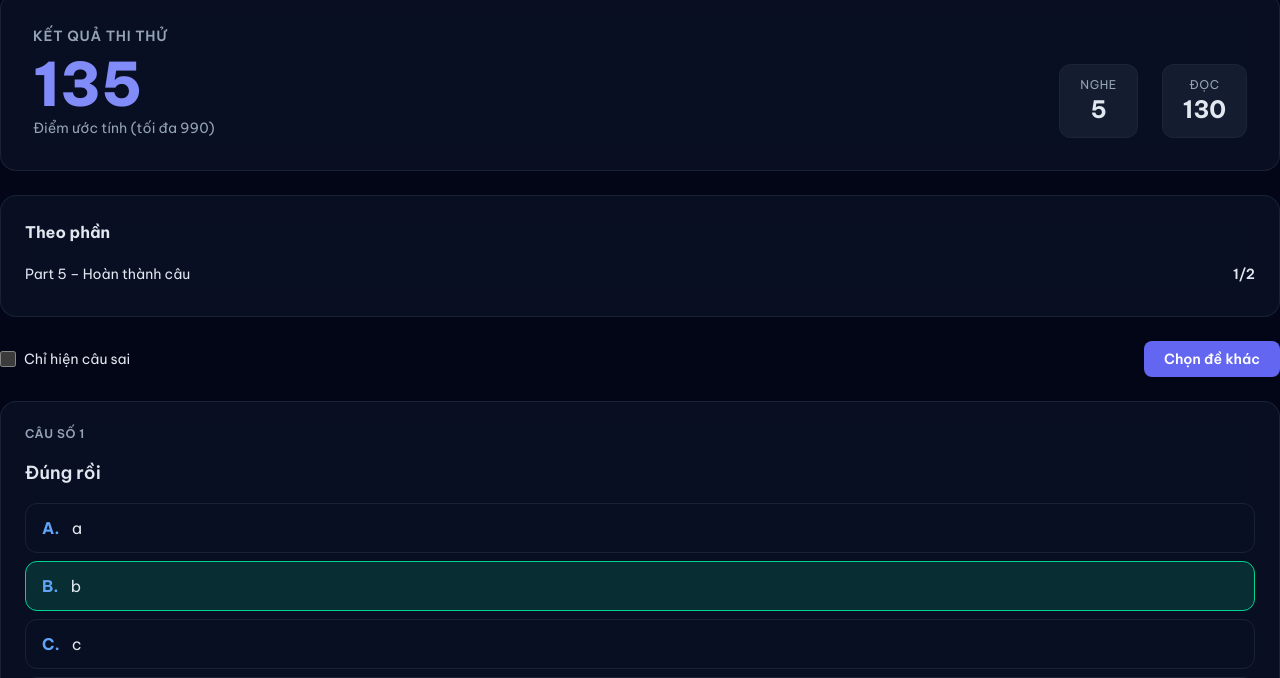
it: ResultView › lọc chỉ câu sai
Expected: the text "Đúng rồi" is shown, [25,461,101,484]
What coordinates should you click on to do the following:
click the checkbox labelled "Chỉ hiện câu sai"
I would click on:
 (8, 359)
Its box is [0,351,16,367].
(page scrolled)
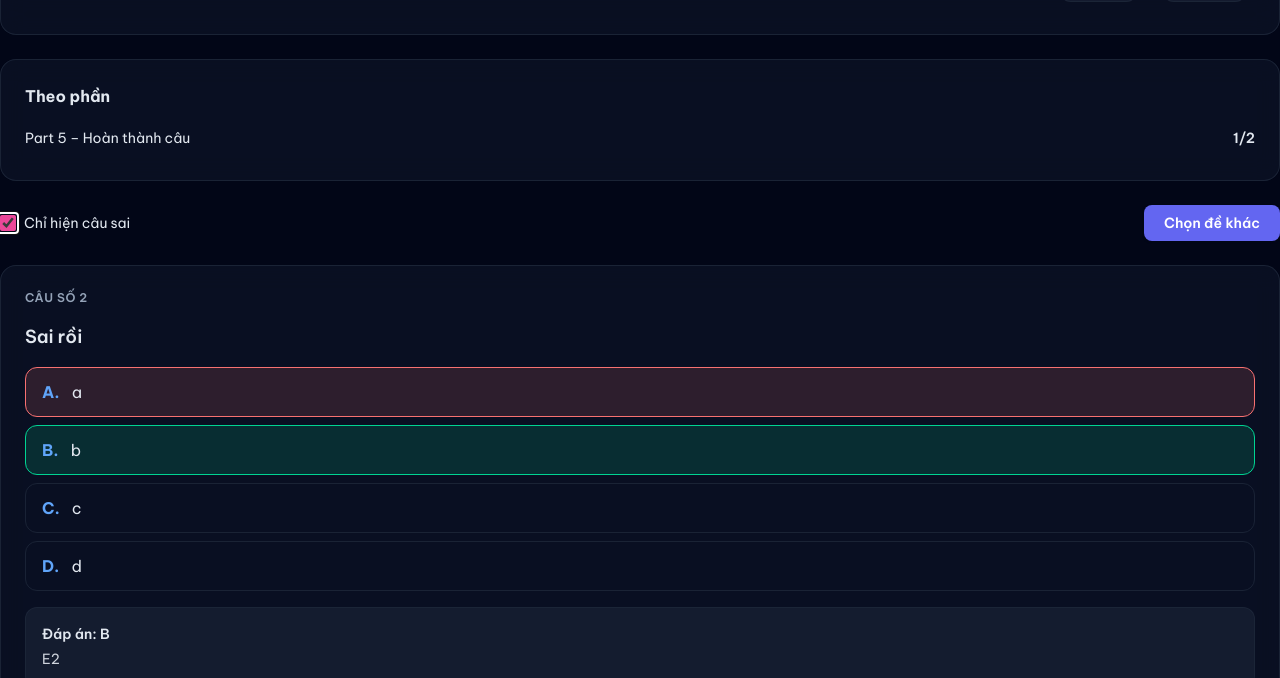
Expected: the text "Sai rồi" is shown, [25,325,82,348]
Expected: the text "Đúng rồi" is gone
